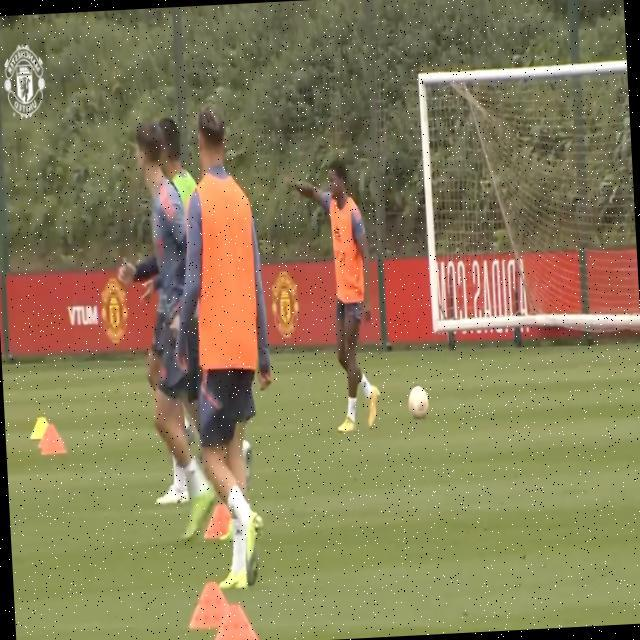Adidas: (333, 223, 343, 244)
